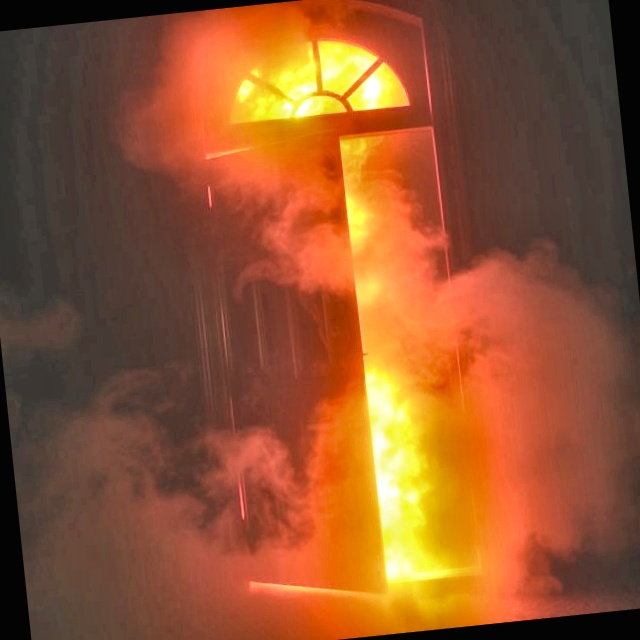fire: (145, 0, 526, 628)
